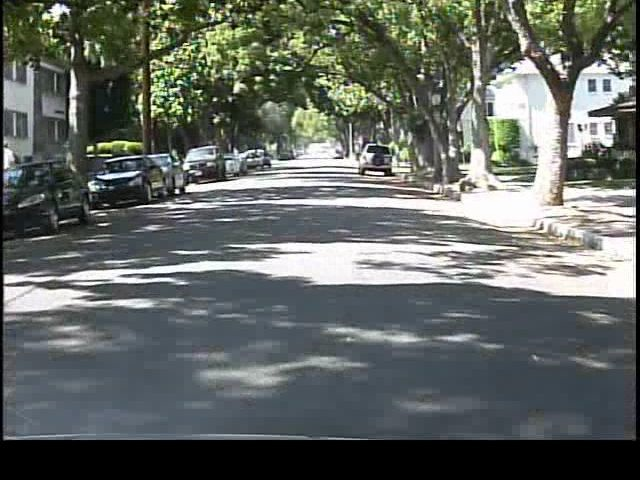person: (2, 136, 23, 200)
